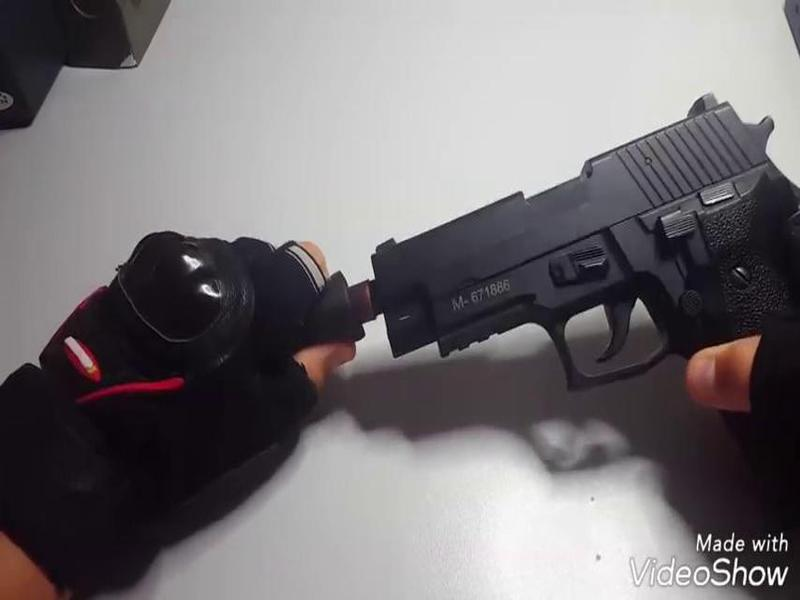Pistola: (364, 87, 800, 410)
